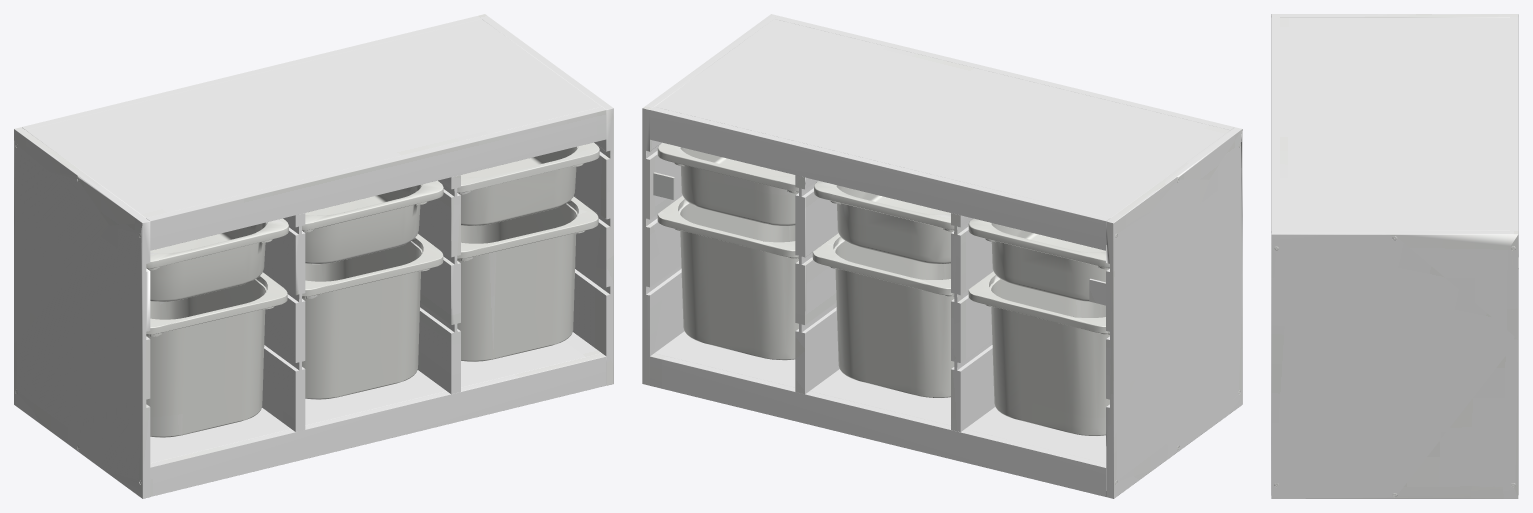
File: trofast_rega_z_pojemnikami_59574459.glb
3 renders of one model, left to right at view 1: azimuth 30°, elevation 25°; view 2: azimuth 150°, elevation 25°; view 3: azimuth 270°, elevation 25°, orthographic. The views are drawn at different scales.
Visible parts, largest first — view 1: trofast_rega_z_pojemnikami_59574459; view 2: trofast_rega_z_pojemnikami_59574459; view 3: trofast_rega_z_pojemnikami_59574459.
Part boxes in pixels (x1,y1,x2,y2): trofast_rega_z_pojemnikami_59574459: (14, 14, 613, 498); trofast_rega_z_pojemnikami_59574459: (642, 14, 1242, 498); trofast_rega_z_pojemnikami_59574459: (1271, 14, 1518, 498).
Bounding box in the file's own units: 0.93 × 0.5202 × 0.4402.
Materials: 1 (1 with a texture image).
